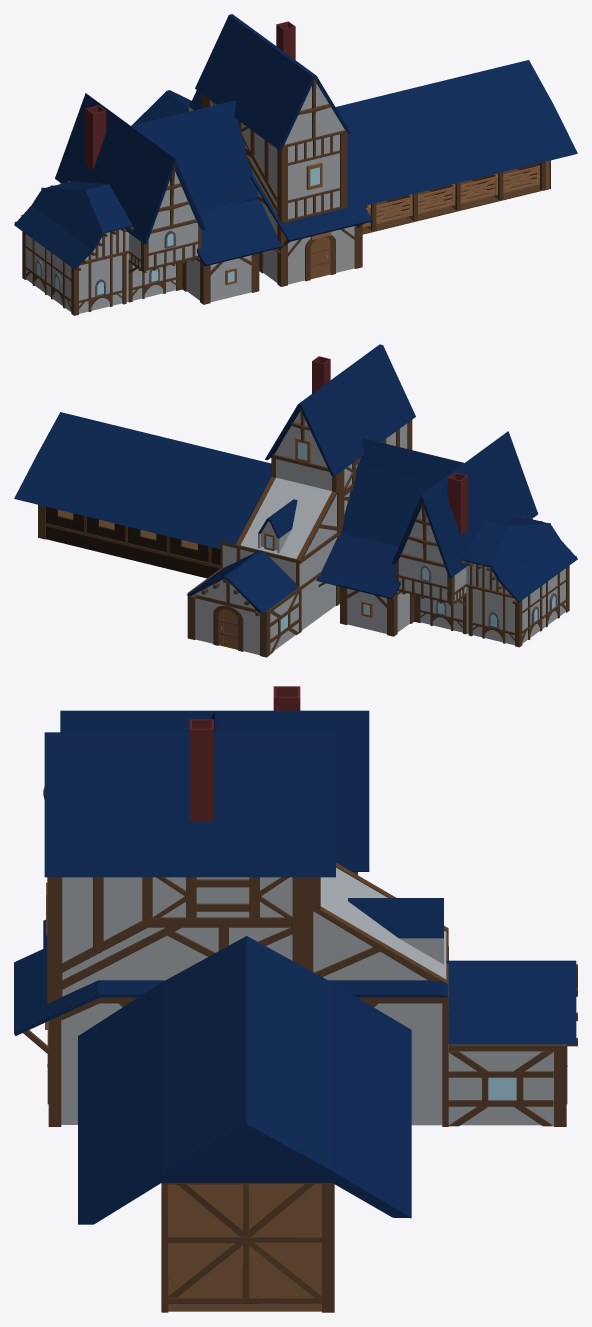
The model's file is Building 1.fbx.
3 renders of one model, top to bottom at view 1: azimuth 30°, elevation 25°; view 2: azimuth 150°, elevation 25°; view 3: azimuth 270°, elevation 25°, orthographic. The views are drawn at different scales.
Parts seen in each view (by area): view 1: Cube.002, Cube.023, Cube.021, Cube.007, Cube.008, Cube.004, Cube.003, Cube.019, Cube.025, Cube.010, Cube.024, Cube.017 (+6 smaller); view 2: Cube.023, Cube.002, Cube.021, Cube.007, Cube.008, Cube.004, Cube.003, Cube.010, Cube.025, Cube.022, Cube.020, Cube.024 (+2 smaller); view 3: Cube.002, Cube.023, Cube.008, Cube.021, Cube.004, Cube.010, Cube.019, Cube.022, Cube.
Part boxes in pixels (left/top/right/bottom): Cube.002: left=335, top=60, right=577, bottom=205; Cube.023: left=26, top=83, right=549, bottom=313; Cube.021: left=14, top=79, right=550, bottom=315; Cube.007: left=131, top=100, right=282, bottom=266; Cube.008: left=195, top=14, right=350, bottom=150; Cube.004: left=55, top=93, right=205, bottom=244; Cube.003: left=14, top=181, right=132, bottom=269; Cube.019: left=250, top=174, right=372, bottom=241; Cube.025: left=85, top=105, right=106, bottom=169; Cube.010: left=132, top=90, right=191, bottom=125; Cube.024: left=310, top=237, right=330, bottom=279; Cube.017: left=460, top=175, right=497, bottom=203; Cube.023: left=46, top=411, right=565, bottom=655; Cube.002: left=14, top=412, right=271, bottom=548; Cube.021: left=38, top=408, right=576, bottom=657; Cube.007: left=316, top=438, right=463, bottom=599; Cube.008: left=265, top=344, right=415, bottom=476; Cube.004: left=392, top=431, right=537, bottom=578; Cube.003: left=463, top=516, right=577, bottom=602; Cube.010: left=187, top=550, right=298, bottom=613; Cube.025: left=447, top=472, right=468, bottom=535; Cube.022: left=258, top=499, right=297, bottom=553; Cube.020: left=266, top=442, right=555, bottom=631; Cube.024: left=218, top=609, right=237, bottom=649; Cube.002: left=78, top=936, right=411, bottom=1224; Cube.023: left=61, top=867, right=564, bottom=1311; Cube.008: left=44, top=732, right=335, bottom=877; Cube.021: left=23, top=786, right=577, bottom=1312; Cube.004: left=60, top=710, right=369, bottom=871; Cube.010: left=446, top=960, right=576, bottom=1044; Cube.019: left=14, top=947, right=447, bottom=1035; Cube.022: left=348, top=898, right=443, bottom=964; Cube: left=189, top=719, right=213, bottom=821.
Bounding box in the file's own units: 11491 × 4827 × 6576.
